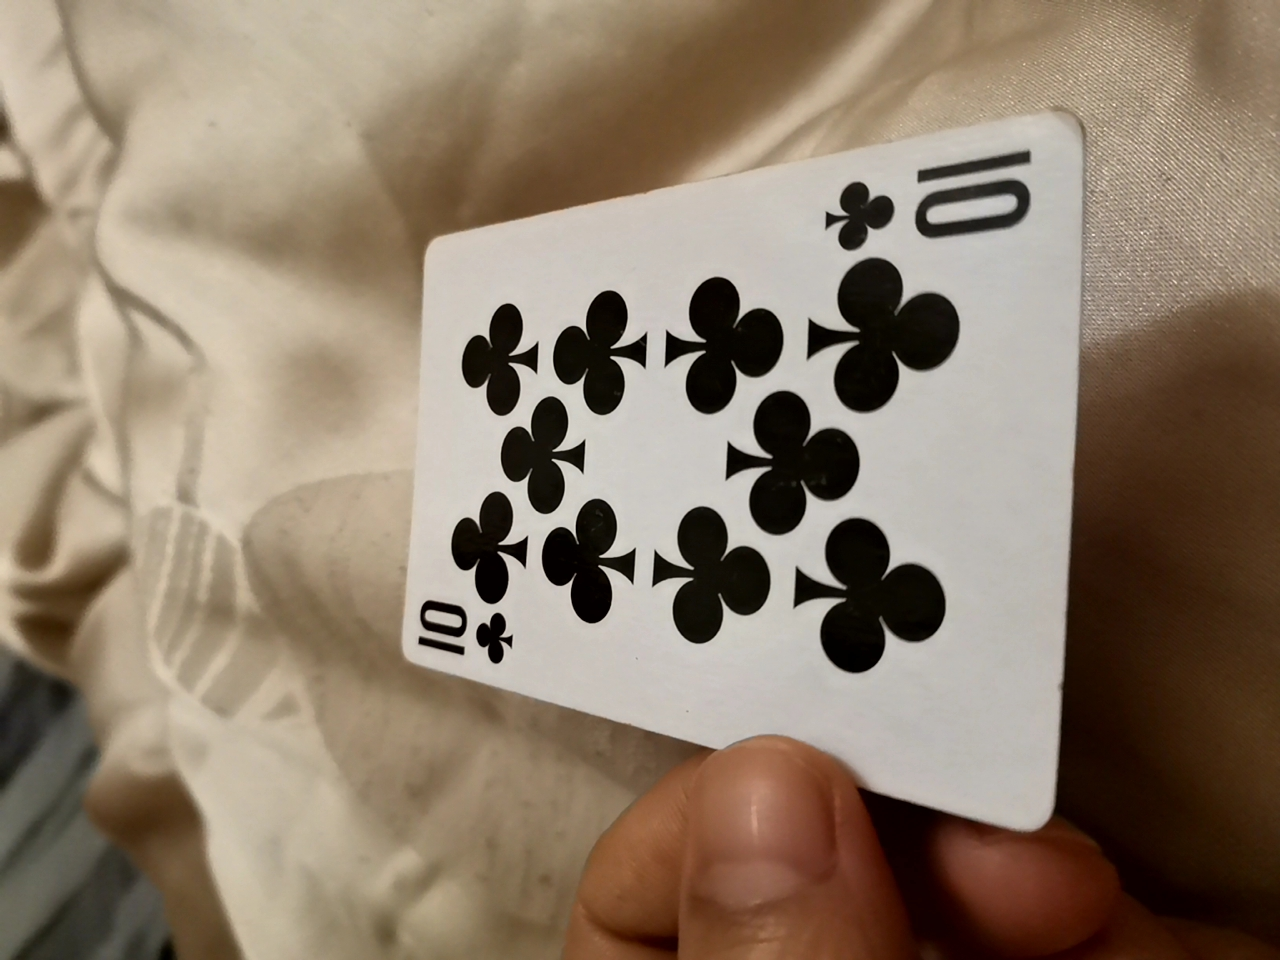mh 10: (380, 105, 1062, 845)
